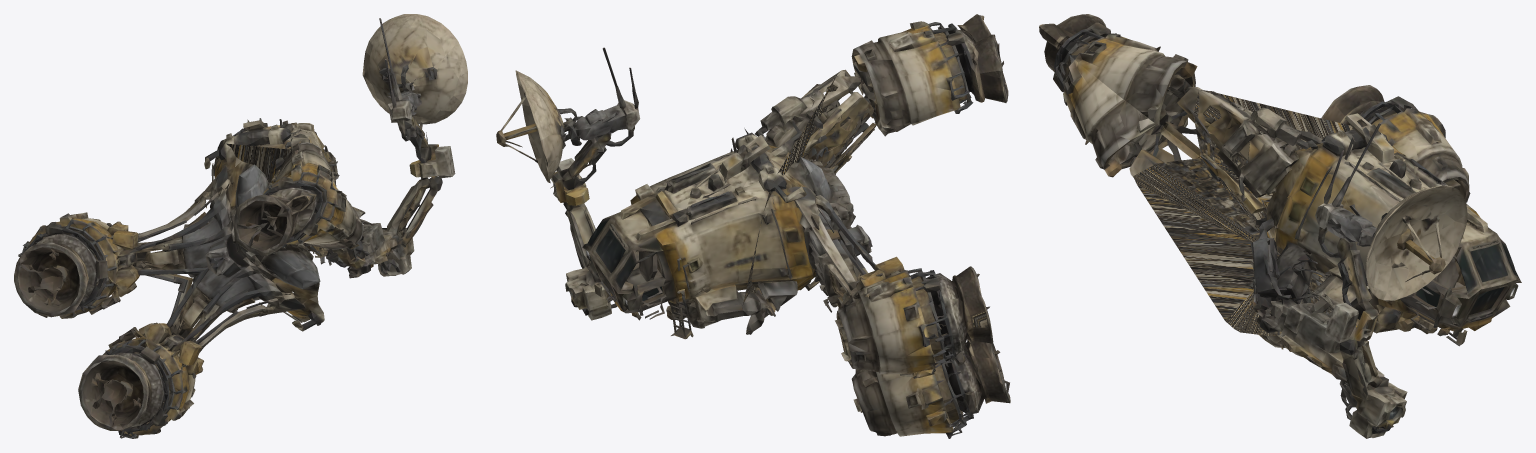
Rendered from scout.glb.
3 renders of one model, left to right at view 1: azimuth 30°, elevation 25°; view 2: azimuth 150°, elevation 25°; view 3: azimuth 270°, elevation 25°, orthographic. The views are drawn at different scales.
Visible parts, largest first — view 1: planar-lod0; view 2: planar-lod0; view 3: planar-lod0.
Part boxes in pixels (x1,y1,x2,y2): planar-lod0: (14, 14, 467, 438); planar-lod0: (496, 14, 1010, 438); planar-lod0: (1039, 14, 1521, 438).
Bounding box in the file's own units: 0.8591 × 0.591 × 0.6755.
Materials: 1 (1 with a texture image).
